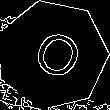O_SW: (21, 23, 83, 87)
